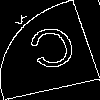C: (25, 24, 83, 80)
